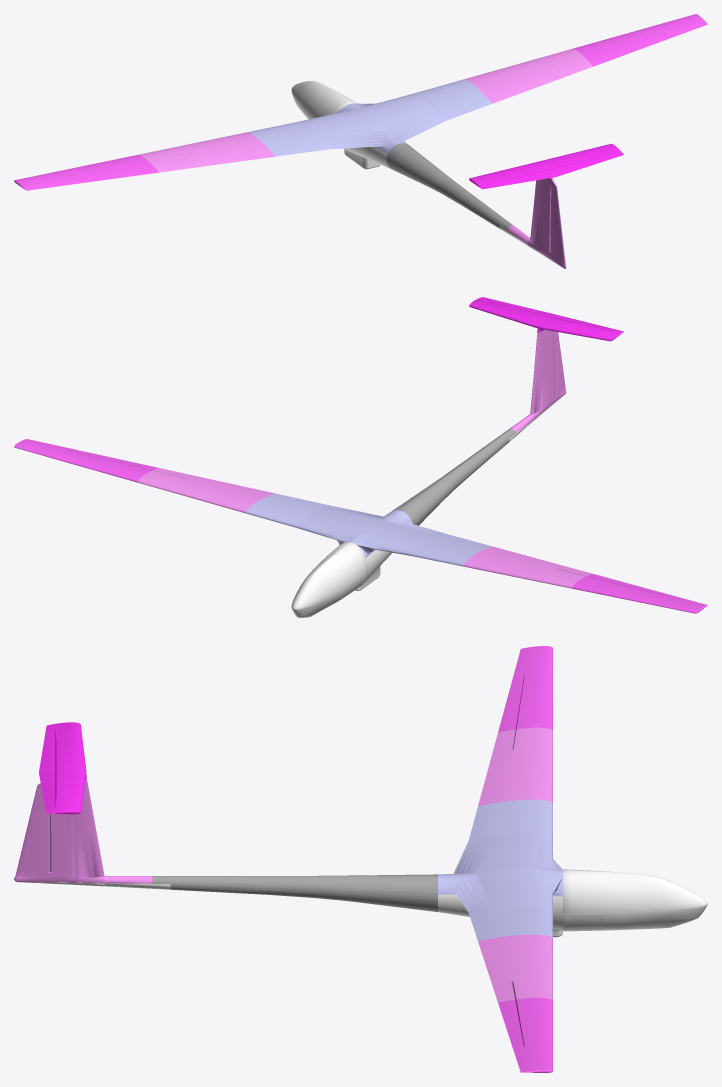
3 views of the same model, one above another, from view 1: azimuth 30°, elevation 25°; view 2: azimuth 150°, elevation 25°; view 3: azimuth 270°, elevation 25° (orthographic). The views are drawn at different scales.
Parts seen in each view (by area): view 1: Mesh13 Difference1_3 Model, Mesh5 Difference1_1 Model, Mesh3 Intersection Model, Mesh6 Intersection1 Model, Mesh10 Union Model, Mesh4 Difference1 Model, Mesh7 Difference1_2 Model, Mesh2 Difference2 Model, Mesh1 Group1 Model, Mesh8 Difference Model, Mesh9 Difference12 Model, Mesh14 Union2 Model (+1 smaller); view 2: Mesh13 Difference1_3 Model, Mesh5 Difference1_1 Model, Mesh1 Group1 Model, Mesh3 Intersection Model, Mesh6 Intersection1 Model, Mesh10 Union Model, Mesh4 Difference1 Model, Mesh7 Difference1_2 Model, Mesh2 Difference2 Model, Mesh9 Difference12 Model, Mesh8 Difference Model, Mesh14 Union2 Model (+1 smaller); view 3: Mesh1 Group1 Model, Mesh5 Difference1_1 Model, Mesh10 Union Model, Mesh13 Difference1_3 Model, Mesh2 Difference2 Model, Mesh6 Intersection1 Model, Mesh3 Intersection Model, Mesh7 Difference1_2 Model, Mesh4 Difference1 Model, Mesh9 Difference12 Model, Mesh8 Difference Model, Mesh11 Difference2_1 Model (+1 smaller).
Part boxes in pixels (x1,y1,x2,y2): Mesh13 Difference1_3 Model: [248, 103, 399, 156]; Mesh5 Difference1_1 Model: [351, 79, 492, 143]; Mesh3 Intersection Model: [465, 48, 592, 103]; Mesh6 Intersection1 Model: [139, 132, 275, 172]; Mesh10 Union Model: [507, 178, 566, 268]; Mesh4 Difference1 Model: [573, 14, 707, 66]; Mesh7 Difference1_2 Model: [14, 154, 158, 190]; Mesh2 Difference2 Model: [386, 143, 478, 210]; Mesh1 Group1 Model: [291, 81, 356, 119]; Mesh8 Difference Model: [539, 143, 623, 178]; Mesh9 Difference12 Model: [469, 161, 555, 189]; Mesh14 Union2 Model: [343, 146, 390, 169]; Mesh13 Difference1_3 Model: [351, 510, 492, 566]; Mesh5 Difference1_1 Model: [246, 493, 399, 544]; Mesh1 Group1 Model: [291, 542, 367, 617]; Mesh3 Intersection Model: [137, 468, 275, 513]; Mesh6 Intersection1 Model: [463, 546, 592, 588]; Mesh10 Union Model: [510, 329, 566, 432]; Mesh4 Difference1 Model: [14, 439, 158, 482]; Mesh7 Difference1_2 Model: [572, 574, 707, 613]; Mesh2 Difference2 Model: [392, 455, 481, 525]; Mesh9 Difference12 Model: [537, 314, 623, 341]; Mesh8 Difference Model: [469, 297, 555, 332]; Mesh14 Union2 Model: [355, 522, 412, 590]; Mesh1 Group1 Model: [563, 869, 707, 931]; Mesh5 Difference1_1 Model: [438, 868, 562, 941]; Mesh10 Union Model: [14, 779, 152, 883]; Mesh13 Difference1_3 Model: [438, 799, 562, 876]; Mesh2 Difference2 Model: [245, 874, 437, 911]; Mesh6 Intersection1 Model: [478, 727, 552, 806]; Mesh3 Intersection Model: [478, 934, 552, 1002]; Mesh7 Difference1_2 Model: [498, 646, 552, 732]; Mesh4 Difference1 Model: [498, 997, 552, 1072]; Mesh9 Difference12 Model: [39, 722, 86, 772]; Mesh8 Difference Model: [39, 768, 86, 814]; Mesh11 Difference2_1 Model: [152, 876, 245, 893].
Size of the model in its own units: 12.33 by 2.26 by 8.51.
